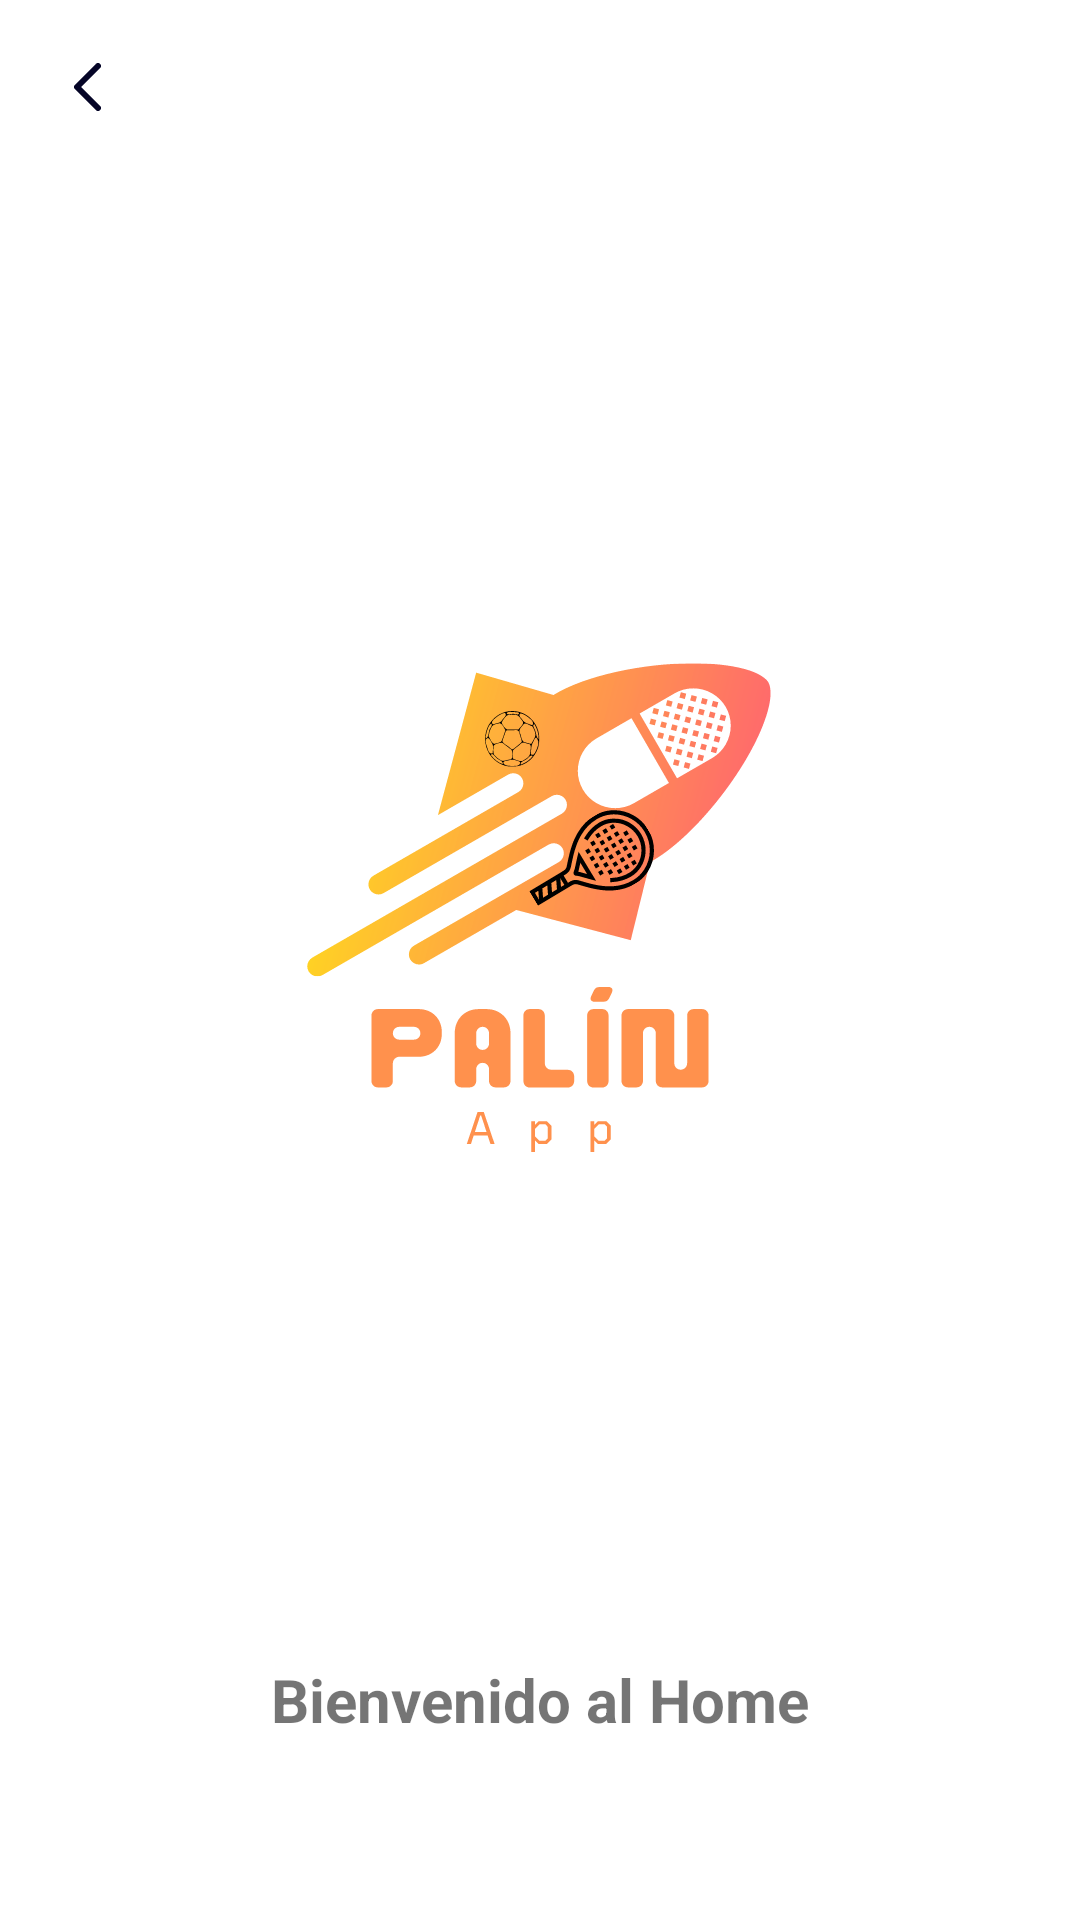

Where icons sit on this 1080*1920 app screen, as (x1, y1, x2, y2):
Boton atrás: (74, 63, 101, 111)
